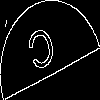C: (25, 25, 60, 81)
